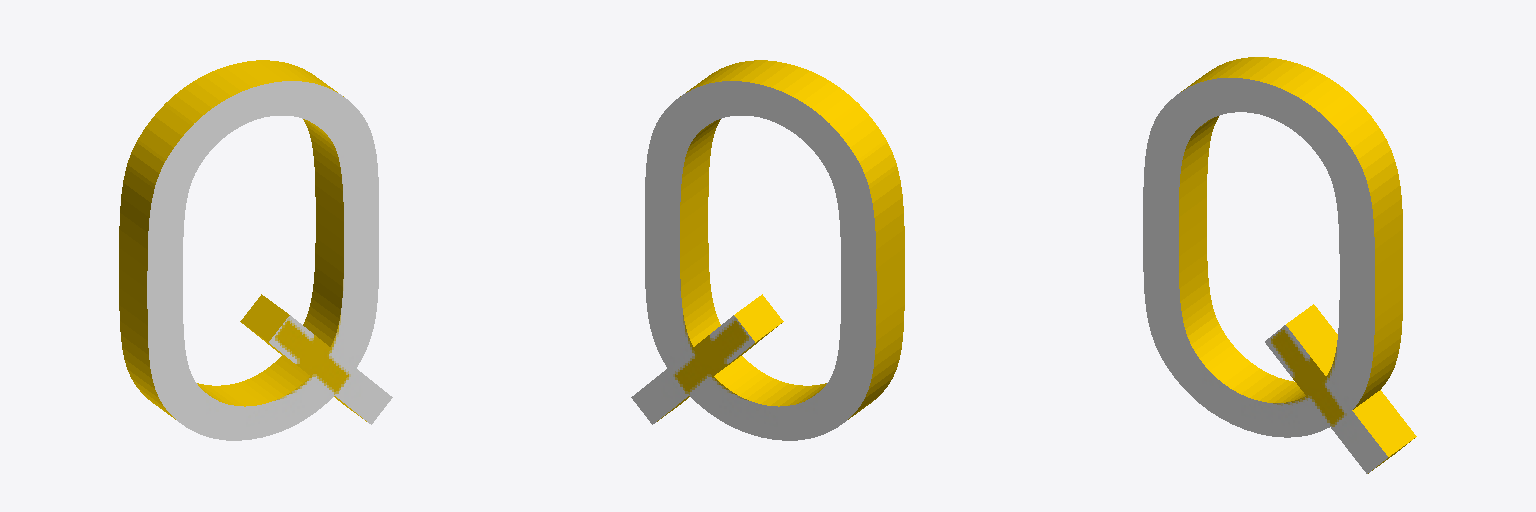
The picture shows the model from 3 angles: view 1: azimuth 30°, elevation 25°; view 2: azimuth 150°, elevation 25°; view 3: azimuth 330°, elevation 25°; orthographic projection.
Bounding box in the file's own units: 59.68 × 85.28 × 11.94.
5 materials, 1 textured.